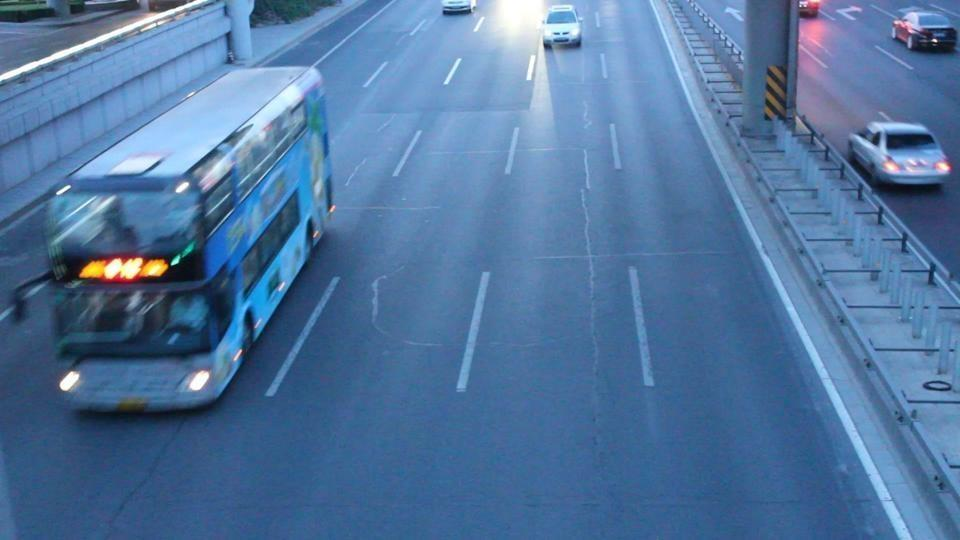car: (846, 114, 953, 190), (891, 8, 959, 53), (541, 5, 583, 50), (442, 0, 475, 15), (798, 0, 824, 17)
